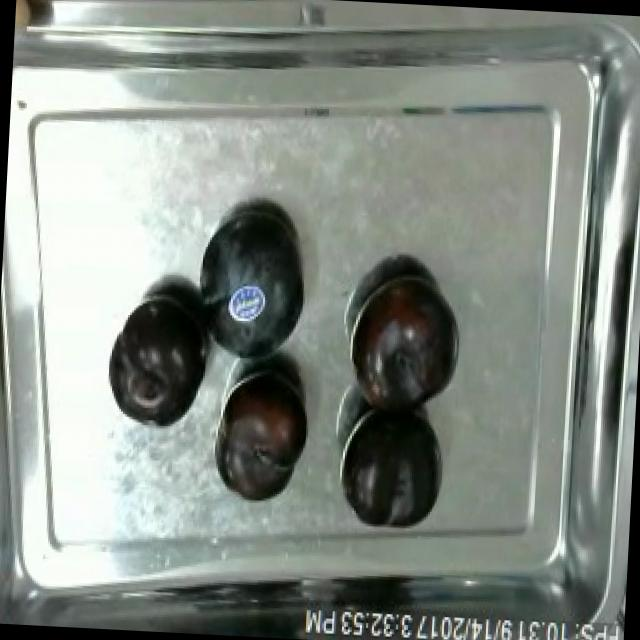Fruit: (191, 200, 320, 372), (345, 264, 465, 422), (99, 284, 218, 434), (335, 400, 452, 538), (210, 366, 317, 511)
